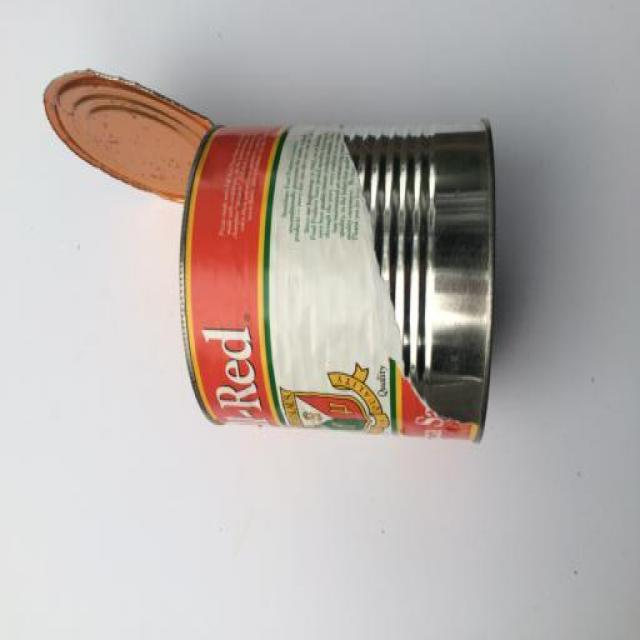metel: (30, 68, 546, 473)
